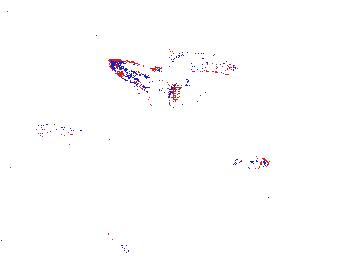red belly glassfish: (227, 153, 269, 171)
redtail glassfish: (33, 118, 129, 153), (105, 56, 180, 100), (165, 42, 241, 78)
